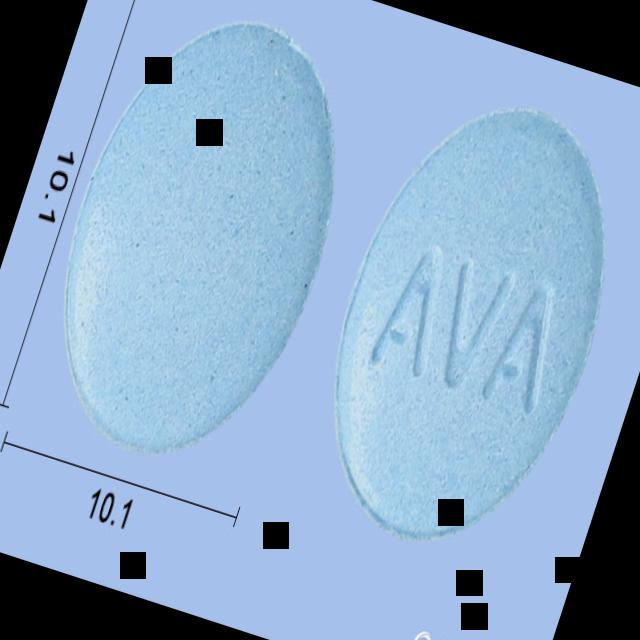A Progen Cefixime Cap: (16, 0, 385, 485), (288, 73, 640, 572)
